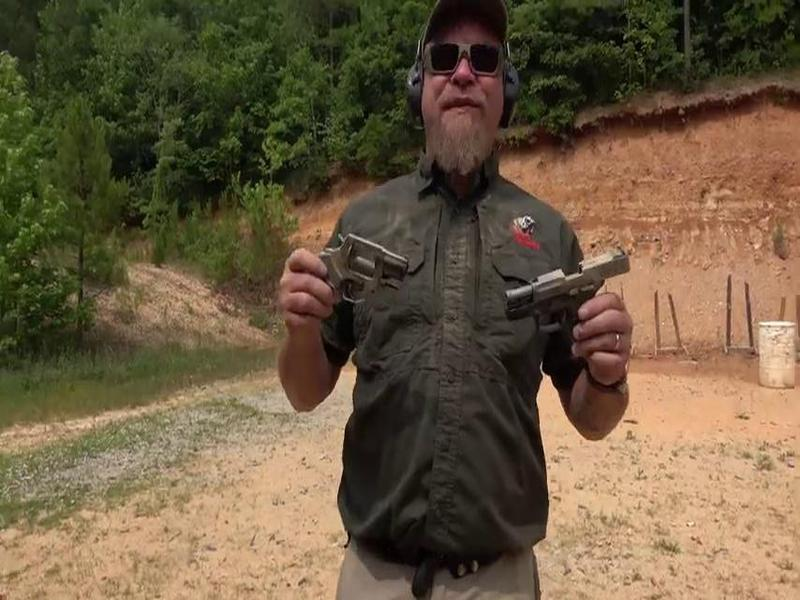Pistola: (496, 241, 633, 352)
Revolver: (278, 220, 424, 332)
